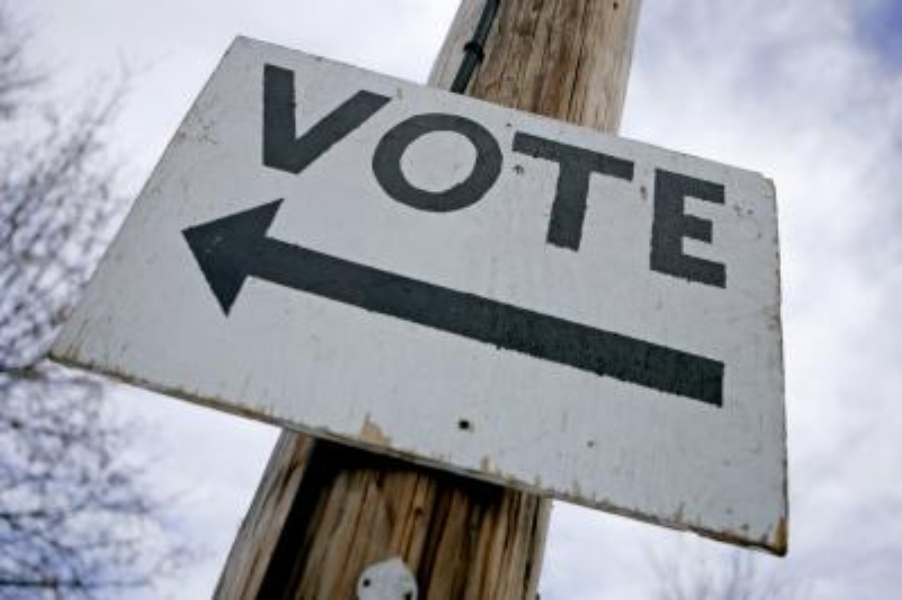text: (273, 61, 288, 294), (289, 61, 304, 294), (305, 61, 320, 294), (321, 61, 336, 294), (337, 61, 352, 294), (353, 61, 368, 294), (369, 61, 384, 294), (385, 61, 400, 294), (401, 61, 416, 294), (417, 61, 432, 294), (433, 61, 448, 294), (449, 61, 464, 294), (465, 61, 480, 294), (481, 61, 496, 294), (497, 61, 512, 294), (513, 61, 528, 294), (529, 61, 544, 294), (545, 61, 560, 294), (561, 61, 576, 294), (577, 61, 592, 294), (593, 61, 608, 294), (609, 61, 624, 294), (625, 61, 640, 294), (641, 61, 656, 294), (657, 61, 672, 294), (673, 61, 688, 294), (689, 61, 704, 294), (705, 61, 720, 294), (262, 61, 272, 294), (721, 61, 727, 294)
